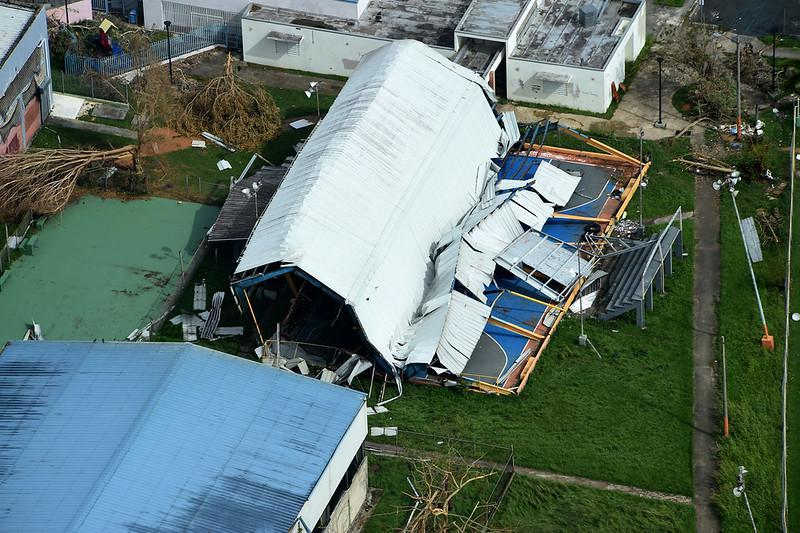destroyed: (187, 32, 664, 418)
minor: (203, 0, 665, 119)
